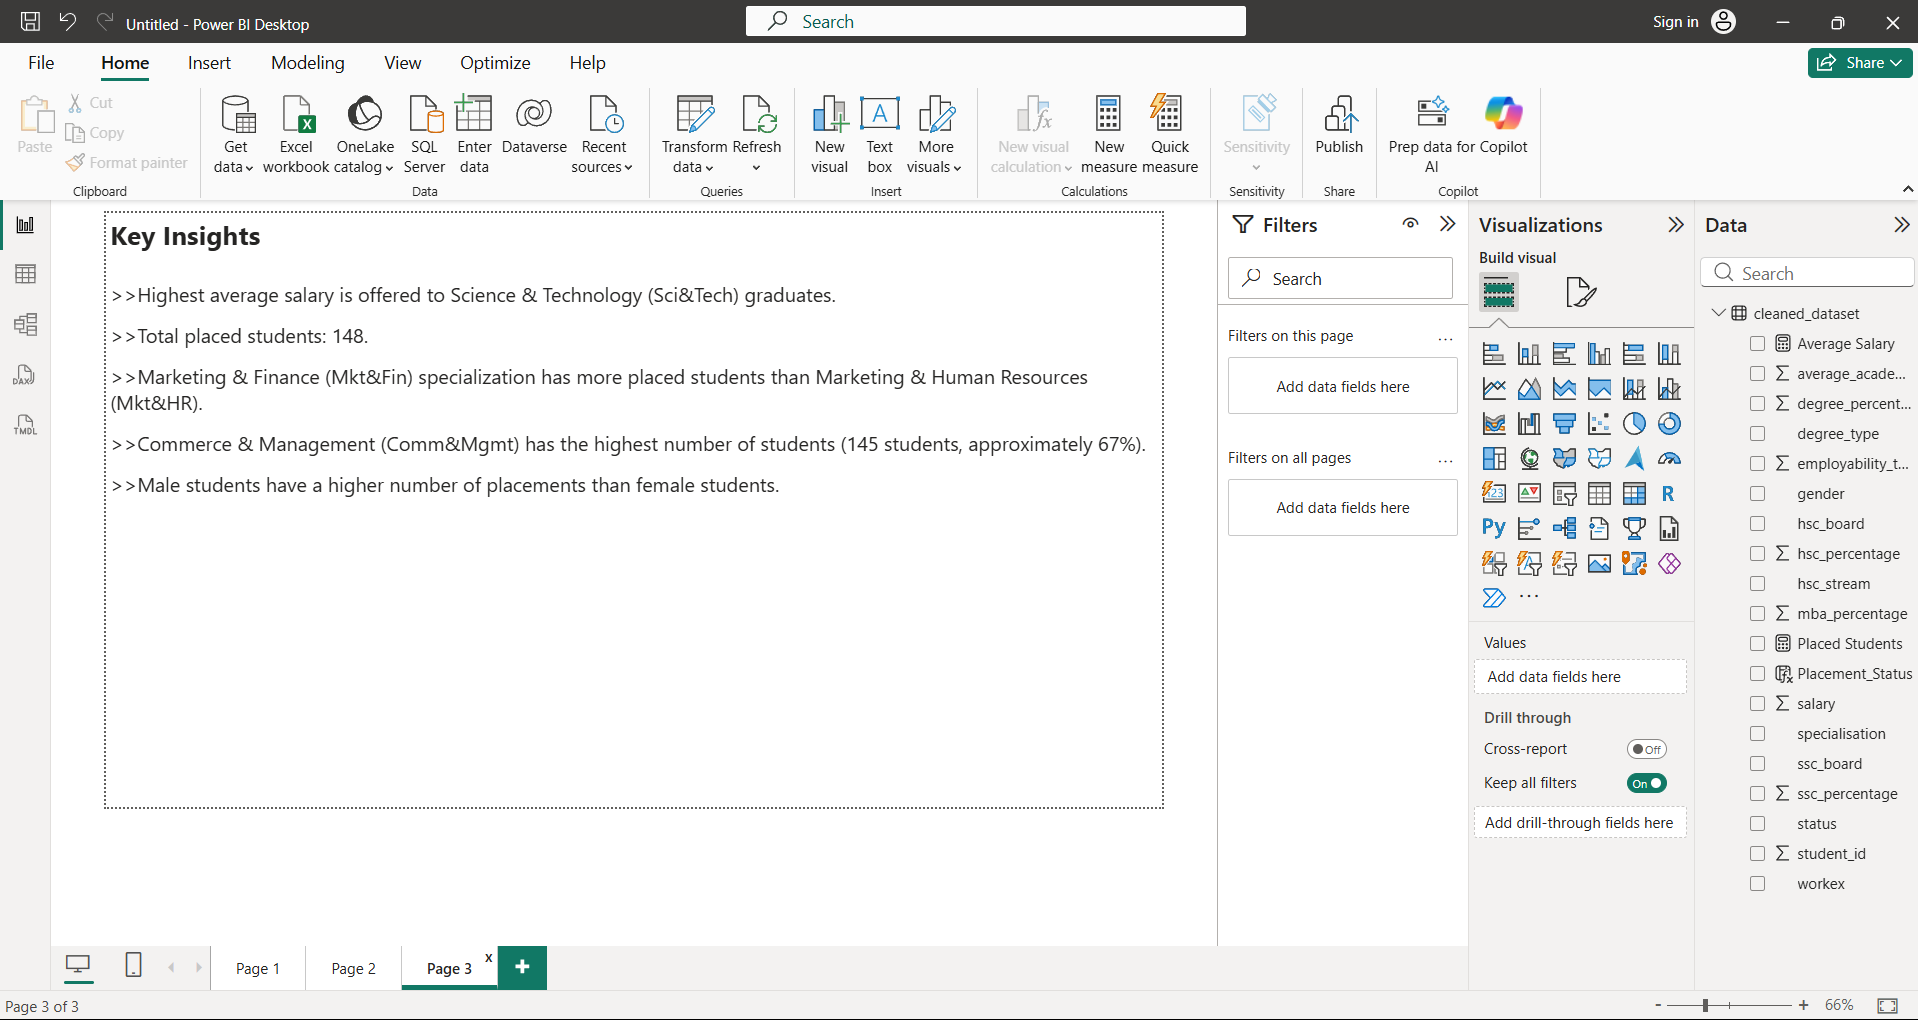

The dashboard page shown, as its layout file describes it:
{"tool":"powerbi","page":{"name":"Page 3","canvas":[1280,720],"ordinal":2},"visuals":[{"type":"textbox","box":[0,0,1280.3,409.1],"z":0}]}

Visuals, with their boxes on the page's 1280x720 design canvas (x1, y1, x2, y2). These are canvas units, not pixel positions in the 1918x1020 screenshot, which may show the page scaled, cropped or inside an application window:
textbox: l=0, t=0, r=1280, b=409
